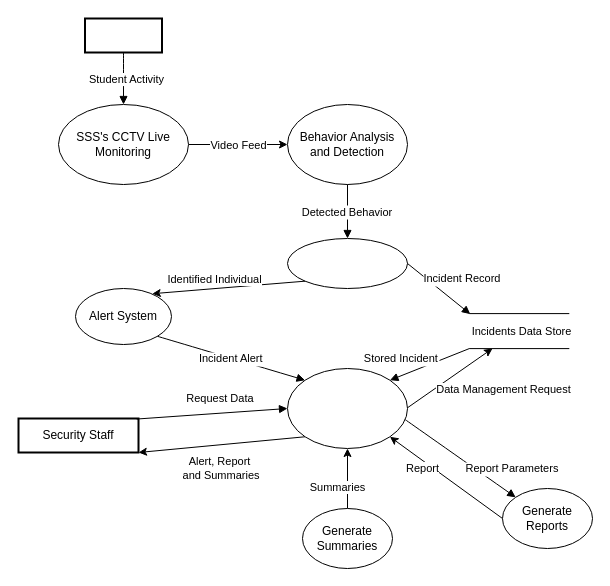
Some shapes in this 610 by 586 pixel diagram are drawn without their labels. The centre of each missing label's shape, as x and y in pixels:
Facial Recognition: point 347,263
SSS's Web Interface: point 347,408
Students: point 123,35
